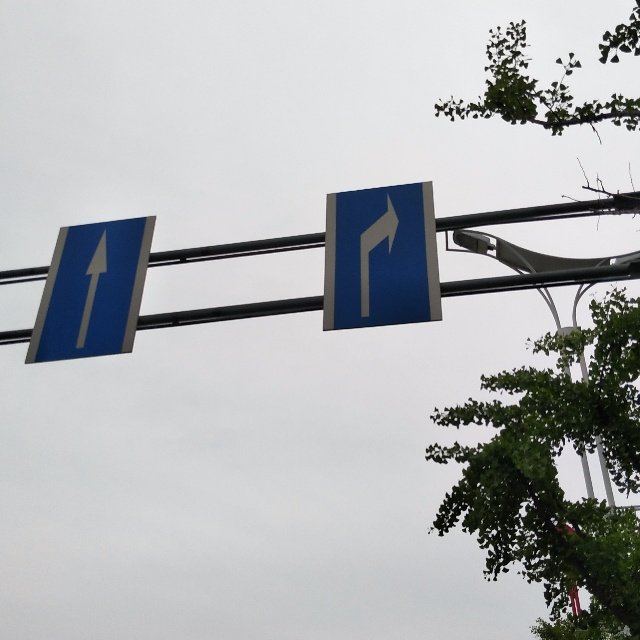right: (341, 192, 427, 321)
straight: (62, 225, 122, 351)
